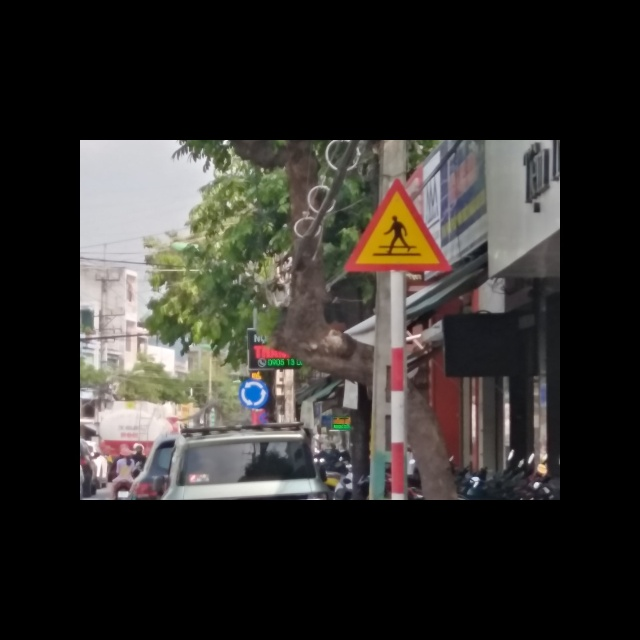Nơi giao nhau chạy theo vòng xuyến: (238, 380, 270, 409)
Đường người đi bộ sang đường: (343, 179, 454, 274)
